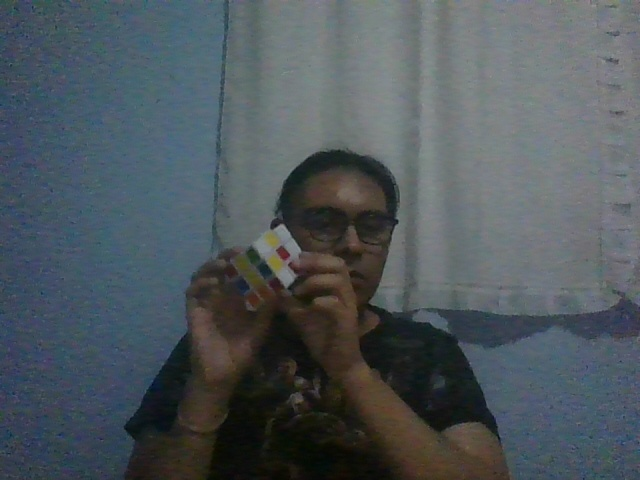rubik: (223, 223, 303, 310)
